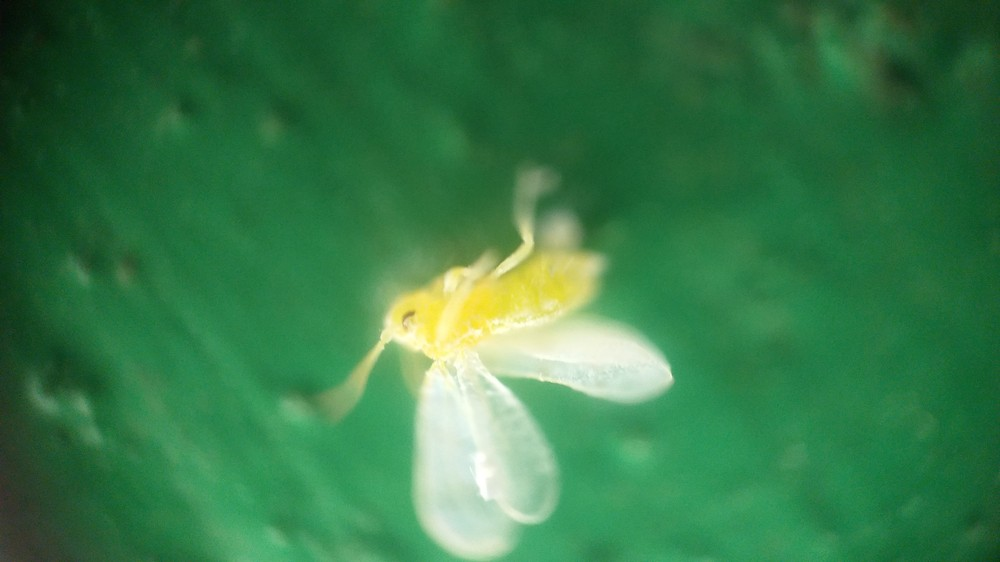Mosca Blanca: (311, 173, 710, 560)
